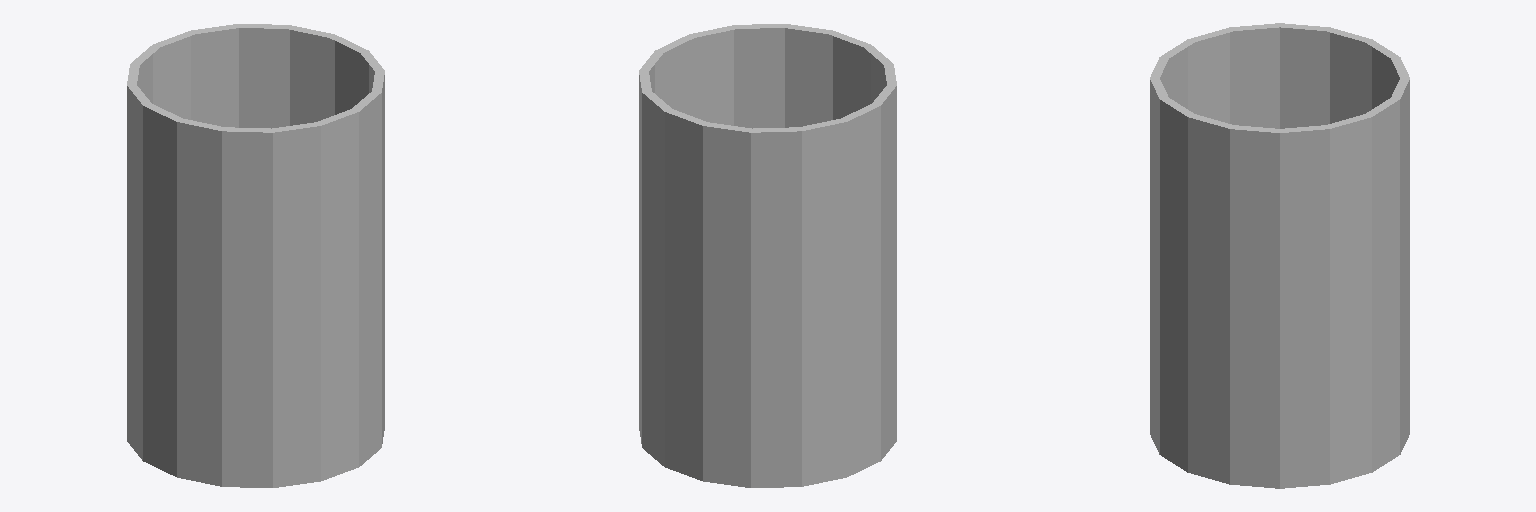
The model's file is Recipiente_Utenisilios.obj.
3 renders of one model, left to right at view 1: azimuth 30°, elevation 25°; view 2: azimuth 150°, elevation 25°; view 3: azimuth 270°, elevation 25°, orthographic.
Parts seen in each view (by area): view 1: Recipiente_PIVOT Kitchen_Props Cocina; view 2: Recipiente_PIVOT Kitchen_Props Cocina; view 3: Recipiente_PIVOT Kitchen_Props Cocina.
Part boxes in pixels (bbox=[...]): Recipiente_PIVOT Kitchen_Props Cocina: bbox=[127, 24, 384, 487]; Recipiente_PIVOT Kitchen_Props Cocina: bbox=[639, 24, 896, 487]; Recipiente_PIVOT Kitchen_Props Cocina: bbox=[1150, 23, 1409, 488].
Size of the model in its own units: 12.68 by 19.1 by 12.68.